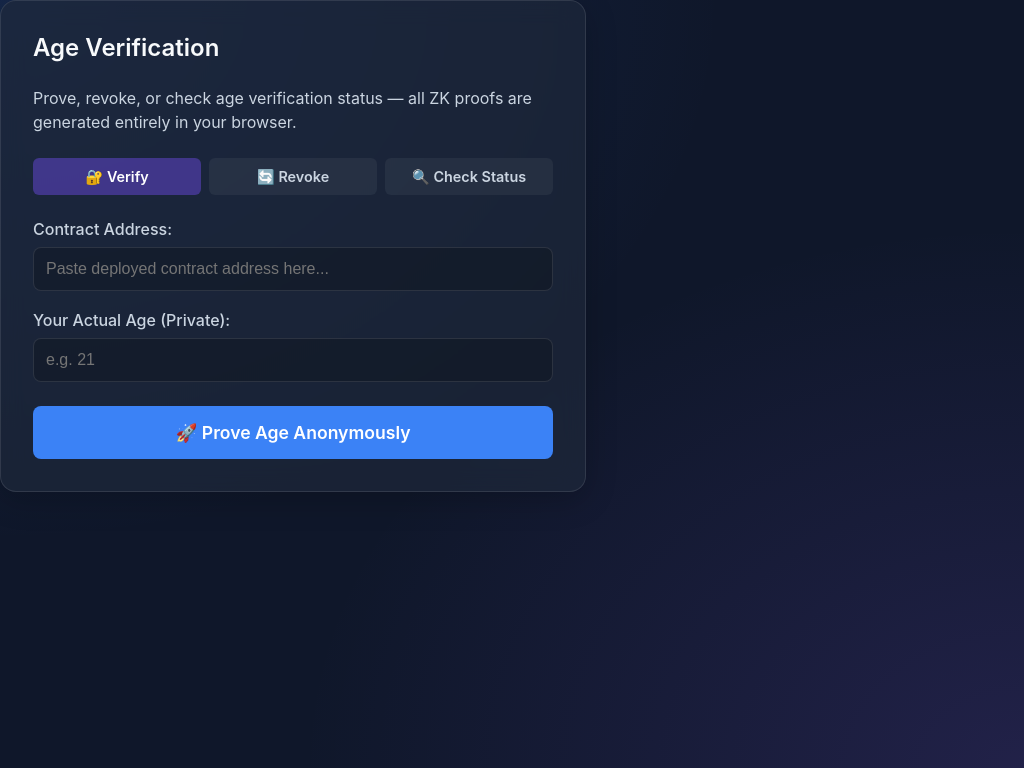
Test: OneClickVerify Component › shows an error if user enters contract address but no age
This screenshot has width=1024, height=768.
Note: Fill in contract address but NOT age
Type "abc123def456" into the field with placeholder "Paste deployed contract address here..." at (293, 269), box top-left (33, 247), bottom-right (553, 291)
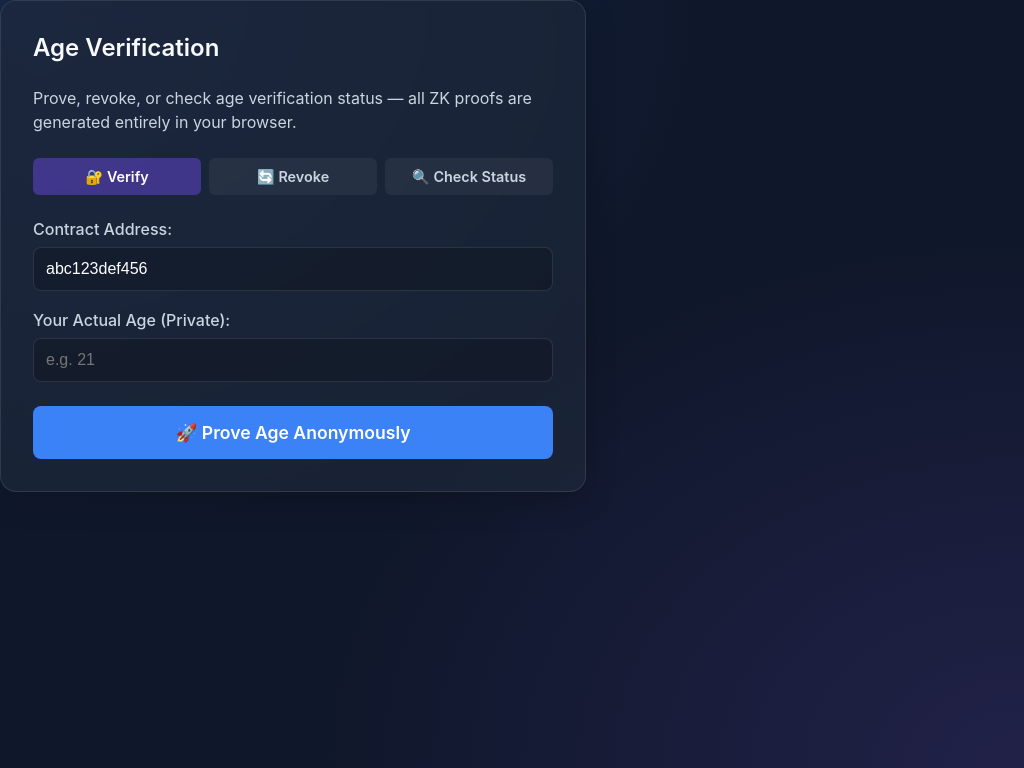
Click the button "🚀 Prove Age Anonymously" at (293, 433), box top-left (33, 406), bottom-right (553, 459)
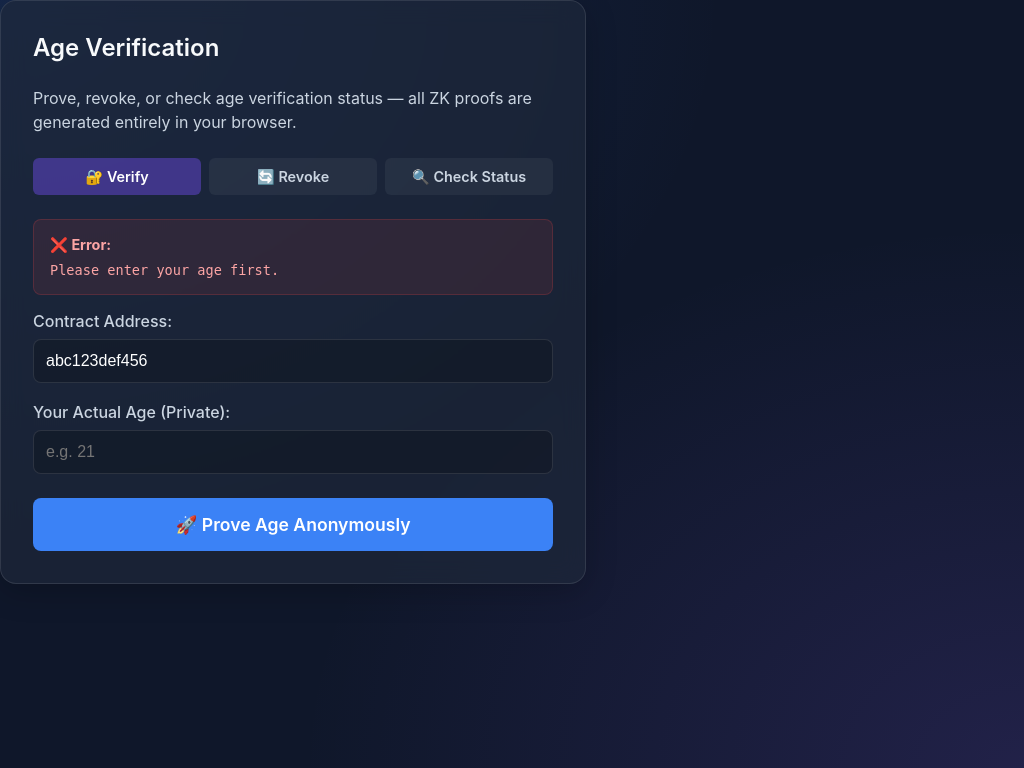
Now the text "Please enter your age first." is shown, box top-left (50, 262), bottom-right (279, 278)
